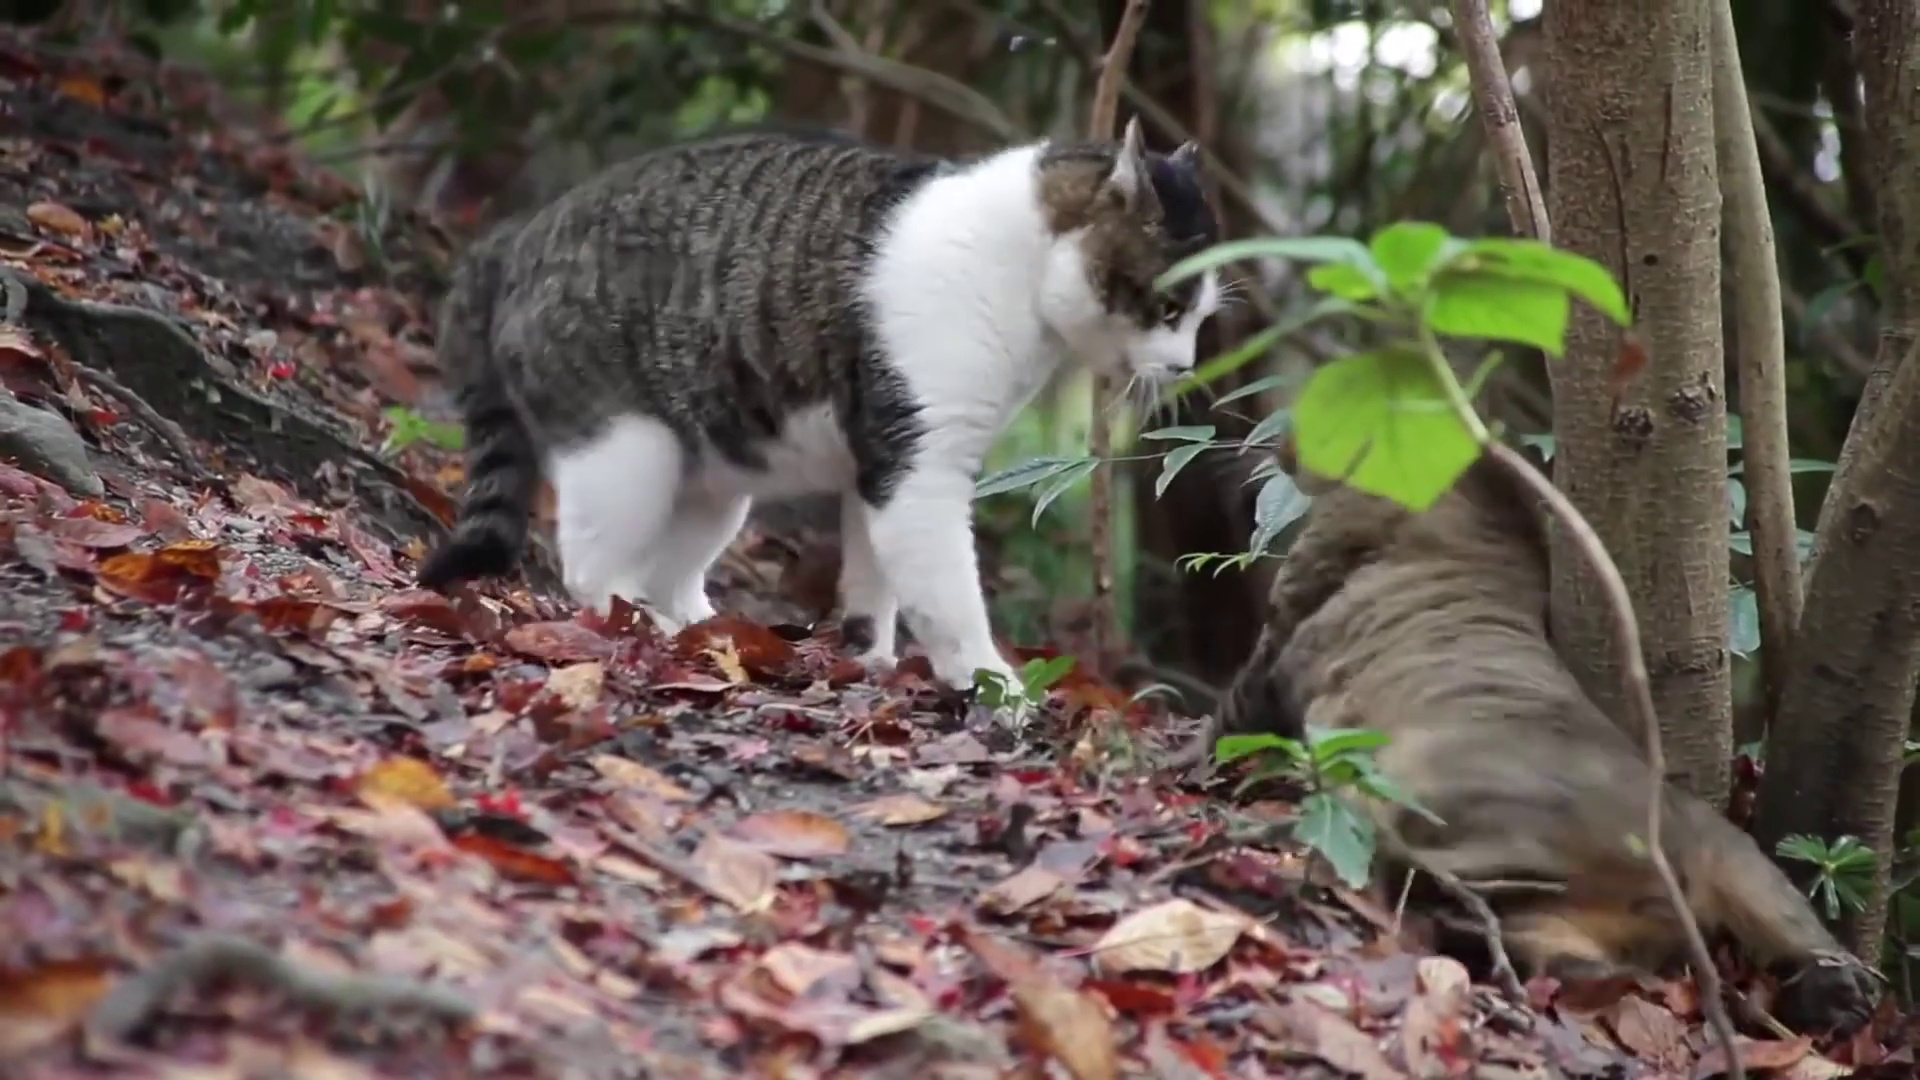black-white: (411, 115, 1217, 696)
pure black: (1211, 364, 1710, 963)
